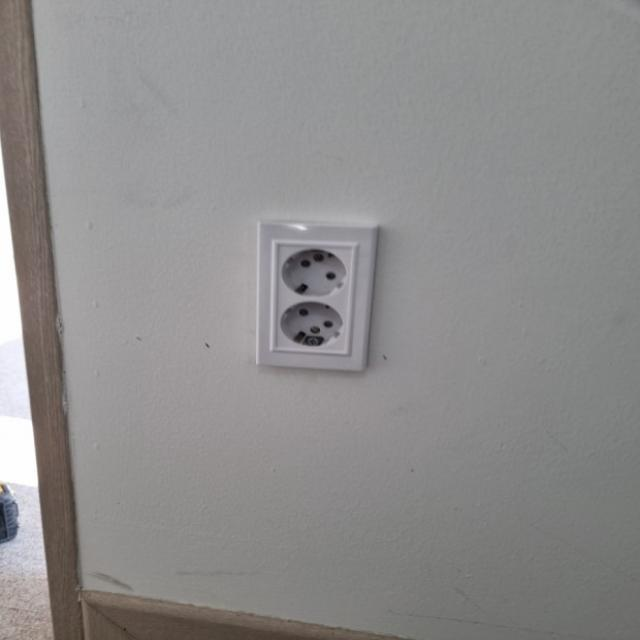typeb: (227, 180, 403, 448)
